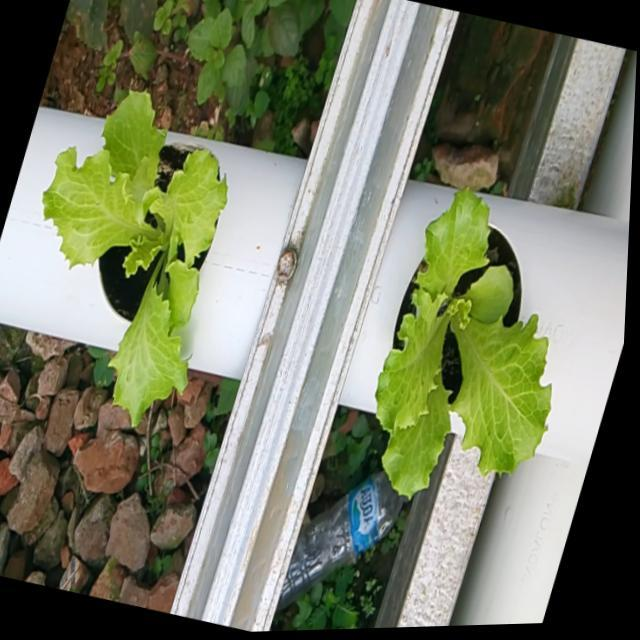Baby: (37, 77, 224, 416), (371, 175, 549, 492)
